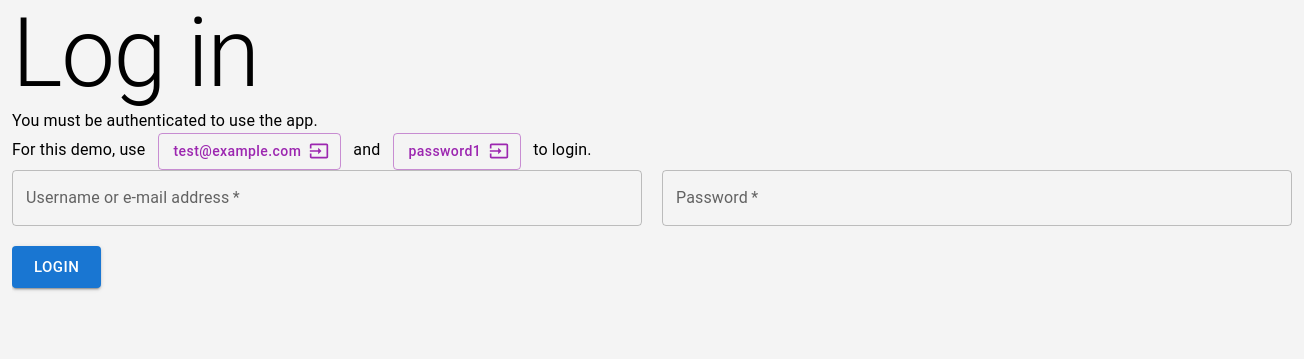
Scenario: Login component › shows an alert for server errors
Type "wrong@example.com" into the field labelled "Username or e-mail address" at coordinates (327, 198), box [12,170,642,226]
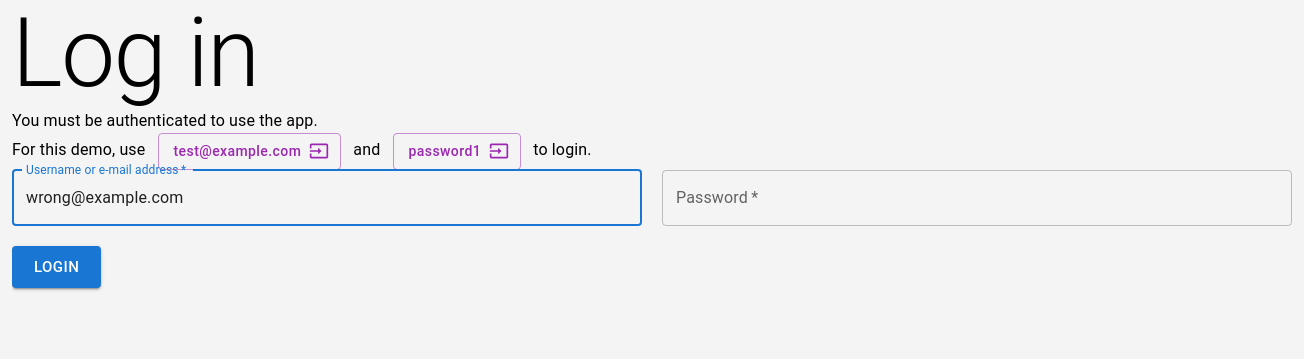
Type "bad password" into the password field labelled "Password *" at coordinates (977, 198), box [662,170,1292,226]
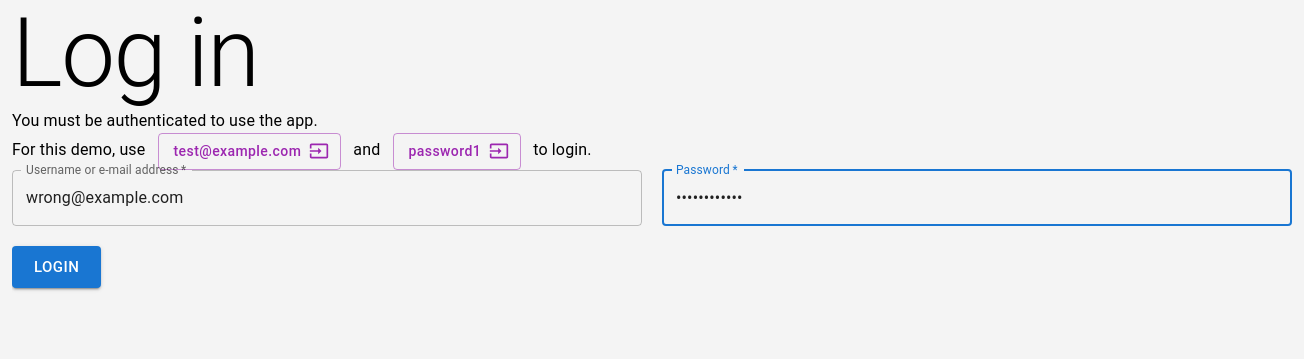
Click the button "Login" at coordinates (57, 267), box [12,246,101,288]
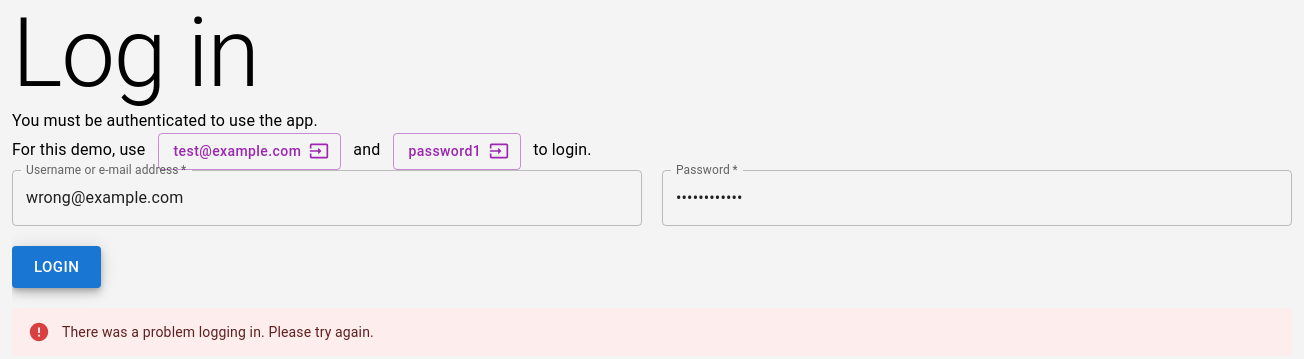
Expected: the message reads "There was a problem logging in. Please try again.", [62,324,374,340]
